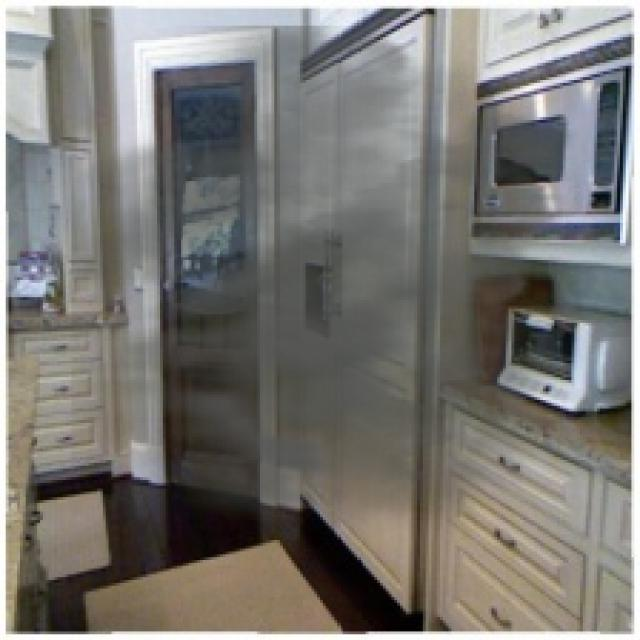smoke: (71, 26, 628, 560)
